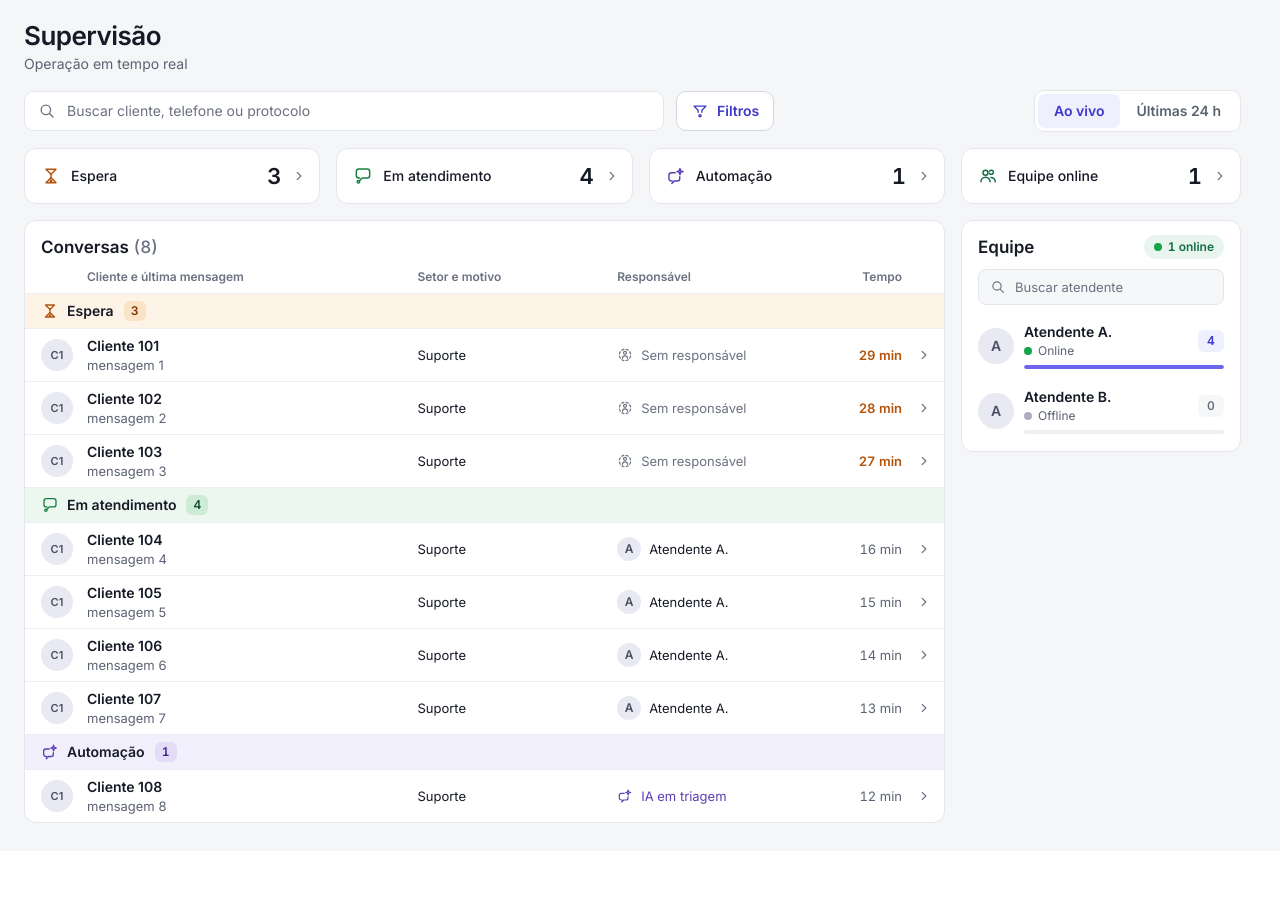
evento de outra conversa não redesenha o popup aberto › popup de uma conversa, evento de outra: o popup fica parado e a linha da outra atualiza
The width and height of the screenshot is (1280, 900).
Check: the button "C1 Cliente 101 mensagem 1 Suporte Sem responsável 29 min" is shown, box [25, 329, 944, 381]
Click the button "C1 Cliente 104 mensagem 4 Suporte A Atendente A. 16 min" at (57,549), box [25, 523, 944, 575]
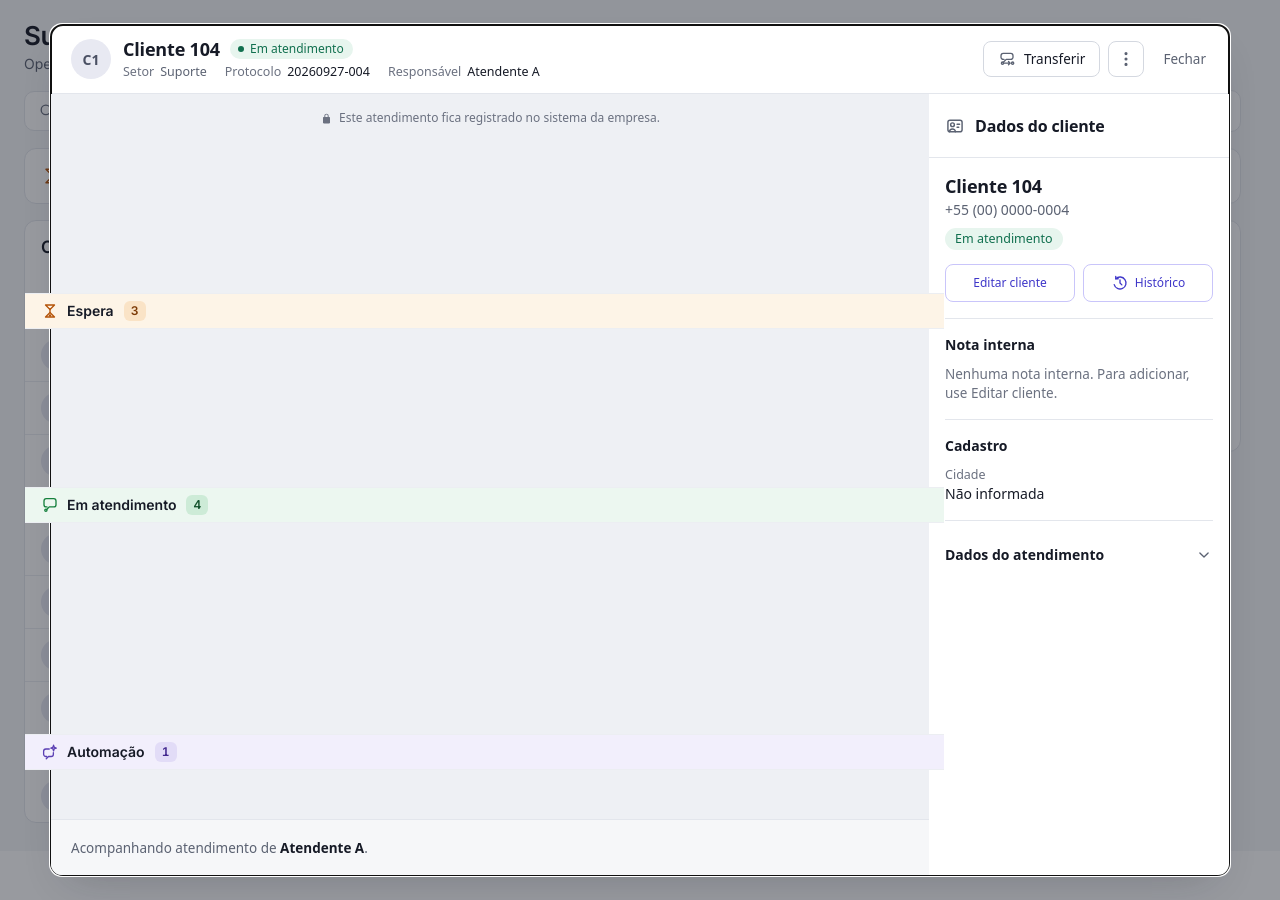
Check: the dialog named "Conversa com" is shown
Check: the button "Cliente 102" shows "outra conversa falou", box [25, 382, 944, 434]
